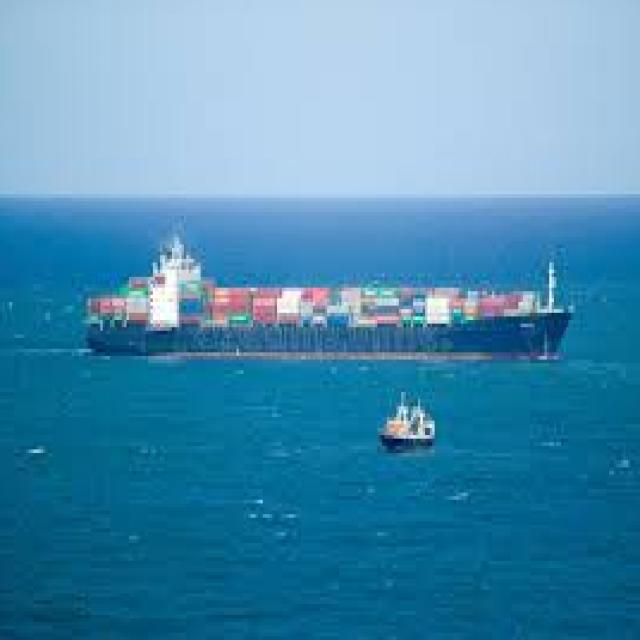cargoship: (85, 218, 567, 366)
houseboat: (379, 389, 440, 451)
